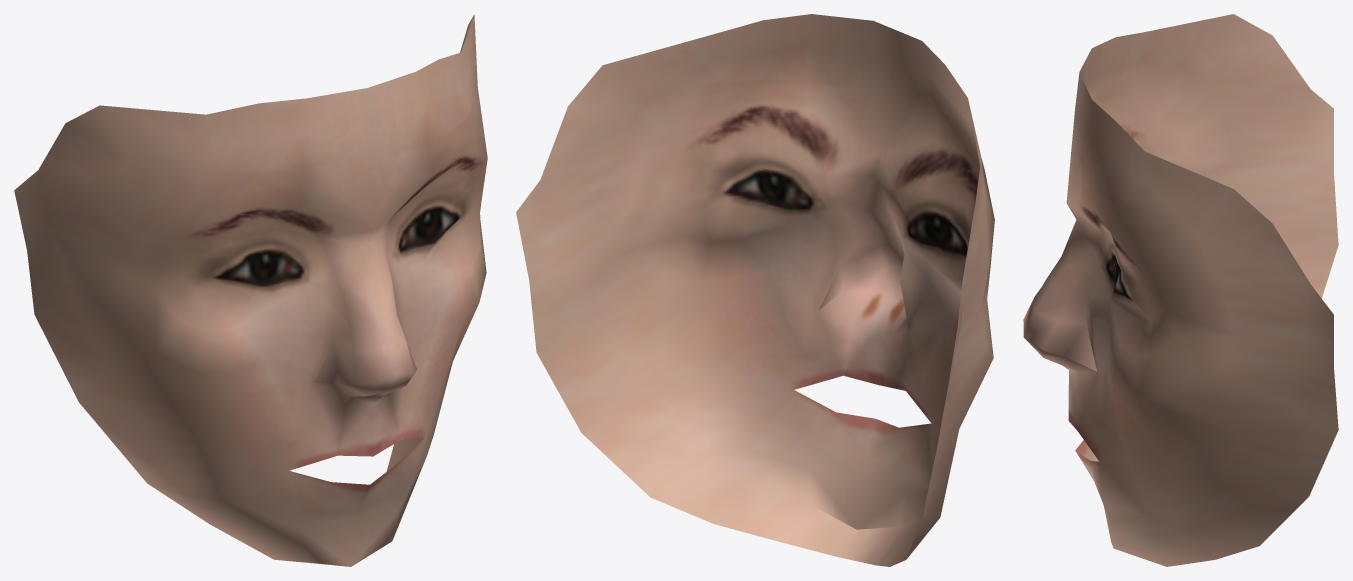
File: hero1.obj
The picture shows the model from 3 angles, left to right: view 1: azimuth 30°, elevation 25°; view 2: azimuth 150°, elevation 25°; view 3: azimuth 270°, elevation 25°; orthographic projection. The views are drawn at different scales.
Visible parts, largest first — view 1: hero1; view 2: hero1; view 3: hero1.
Part boxes in pixels (x1,y1,x2,y2): hero1: [14, 15, 487, 566]; hero1: [516, 14, 994, 566]; hero1: [1023, 14, 1338, 566].
Bounding box in the file's own units: 6.83 × 7.45 × 4.42.
